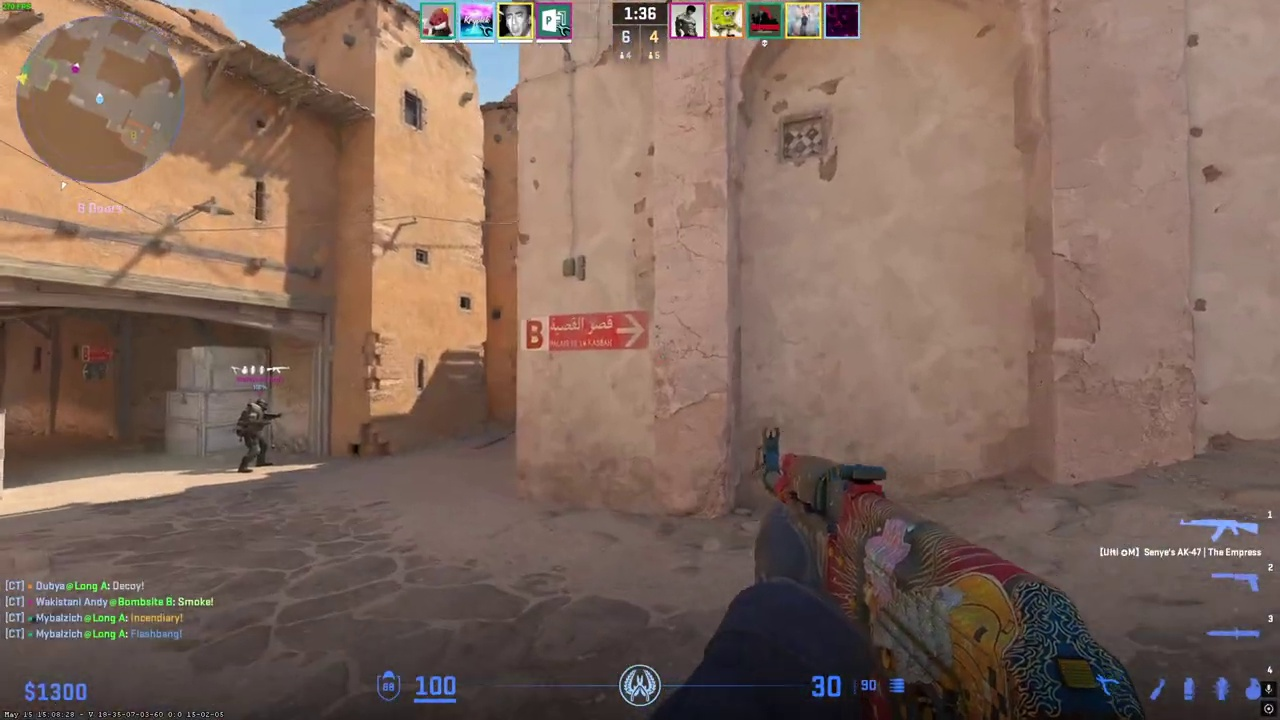CT: (238, 399, 274, 472)
